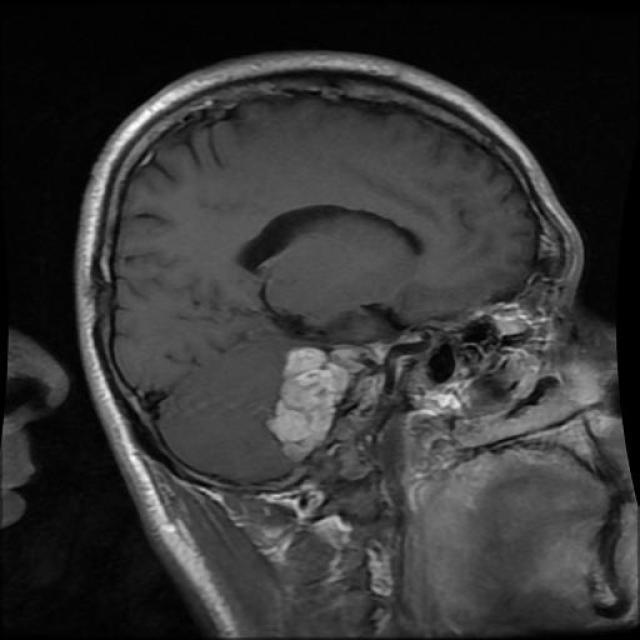meningioma: (266, 348, 366, 462)
